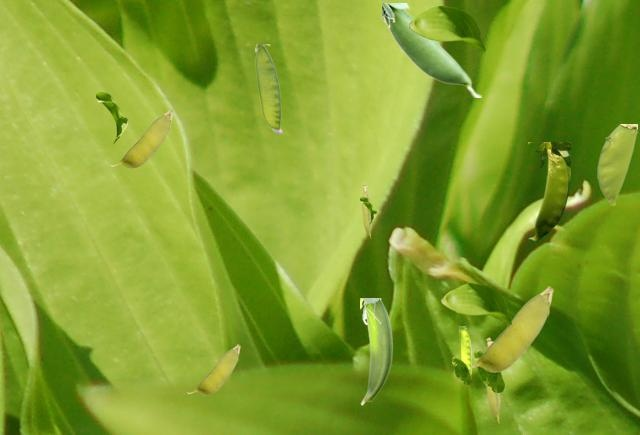pea: (382, 3, 480, 96), (471, 286, 552, 371), (528, 142, 569, 240), (110, 109, 172, 167), (360, 298, 393, 404), (597, 124, 636, 204), (187, 344, 239, 394), (255, 44, 281, 133), (486, 337, 499, 422), (459, 326, 470, 371), (362, 183, 370, 237)
